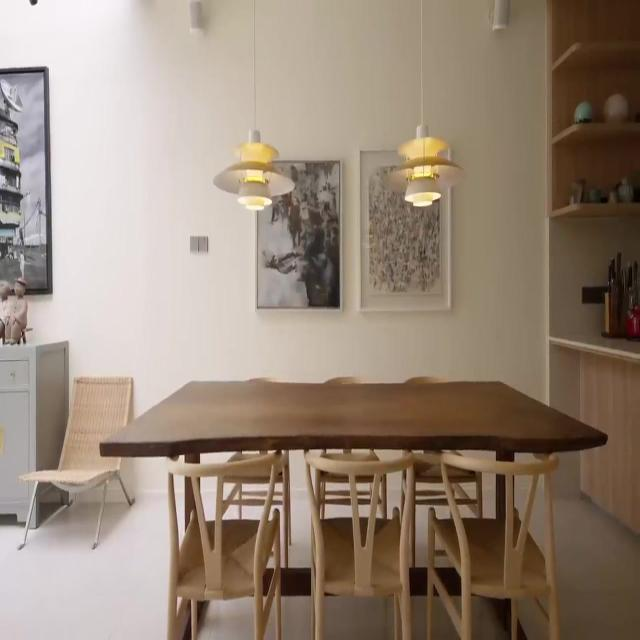obstacle: (99, 375, 607, 638), (426, 451, 560, 639), (165, 452, 282, 639), (303, 449, 415, 639), (17, 375, 135, 550), (400, 375, 482, 566), (0, 340, 69, 528), (316, 375, 386, 522)
